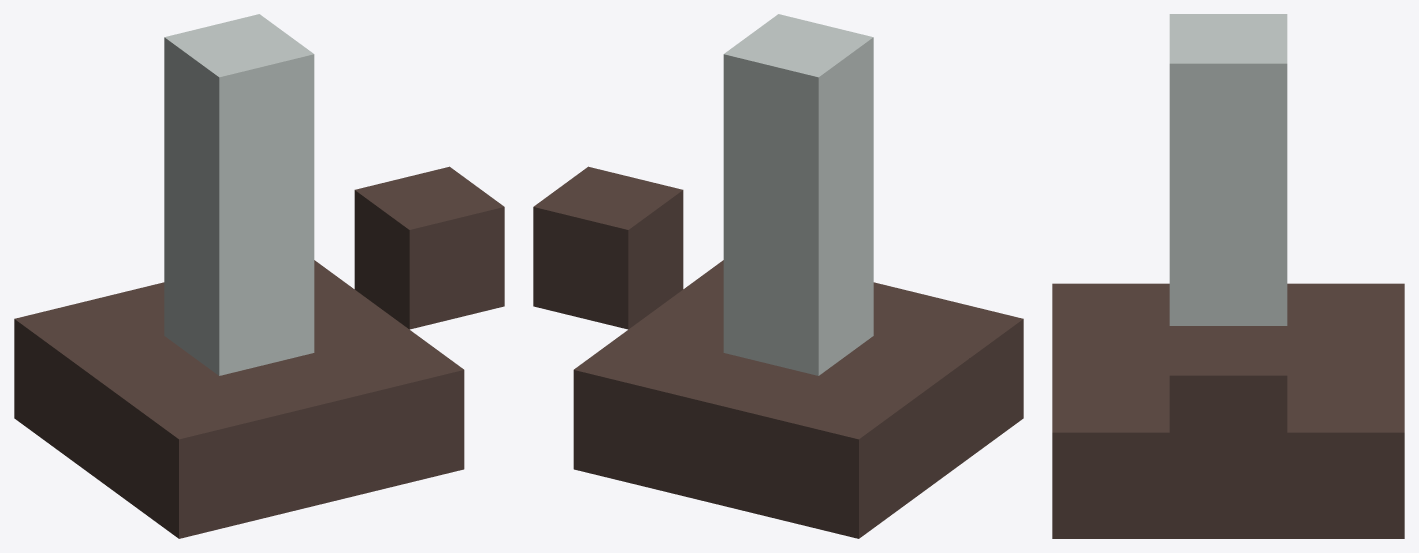
The model's file is candle.fbx.
The picture shows the model from 3 angles, left to right: view 1: azimuth 30°, elevation 25°; view 2: azimuth 150°, elevation 25°; view 3: azimuth 270°, elevation 25°; orthographic projection. The views are drawn at different scales.
Parts seen in each view (by area): view 1: candle_0; view 2: candle_0; view 3: candle_0.
Part boxes in pixels (box(x1,y1,x2,y2)): candle_0: box(14, 14, 504, 538); candle_0: box(533, 14, 1023, 538); candle_0: box(1052, 14, 1404, 538).
Bounding box in the file's own units: 400 × 300 × 400.
